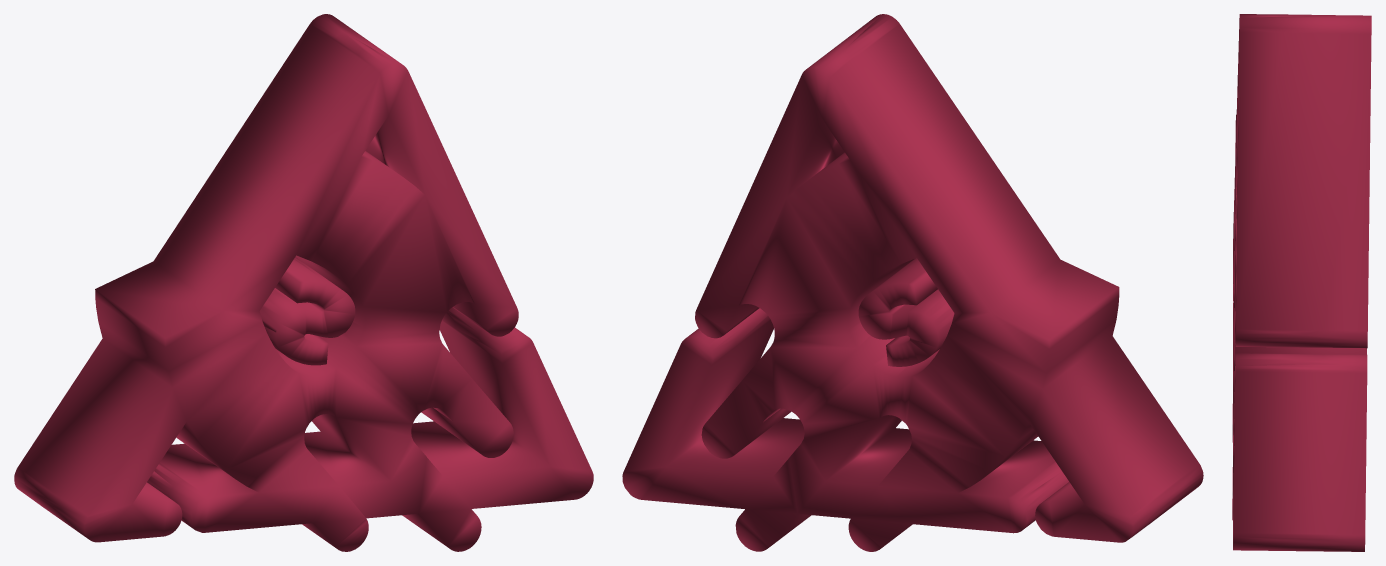
3 views of the same model, side by side, from view 1: azimuth 30°, elevation 25°; view 2: azimuth 150°, elevation 25°; view 3: azimuth 270°, elevation 25° (orthographic). The views are drawn at different scales.
Bounding box in the file's own units: 0.3184 × 0.3 × 0.0799.
1 material, 1 textured.
